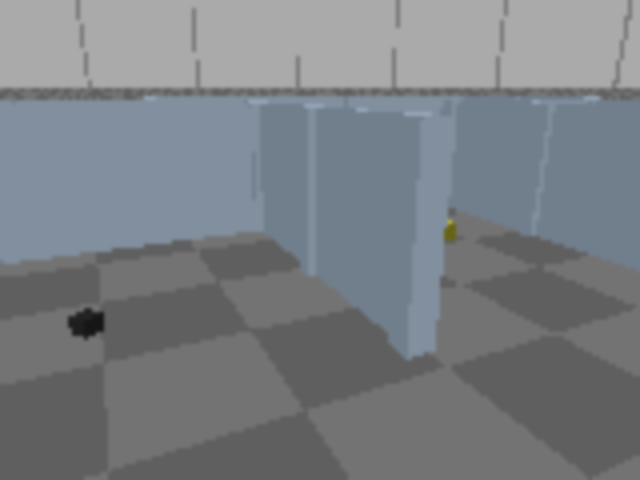puck: (68, 309, 105, 339), (438, 221, 457, 241)
